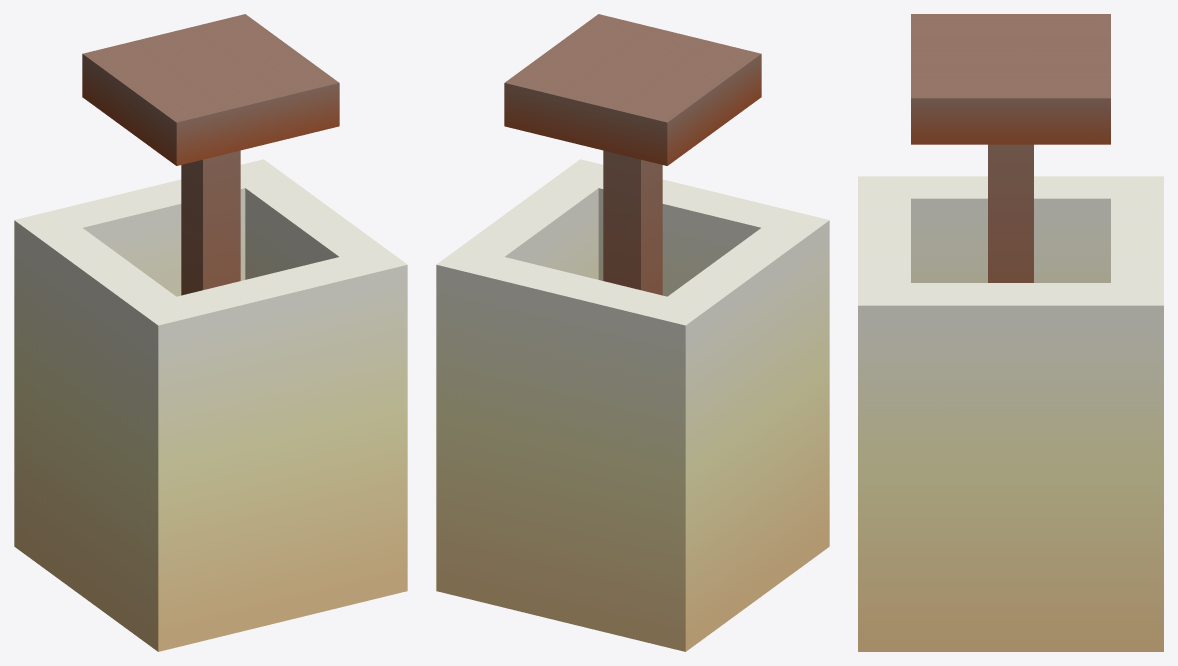
File: cielingLight.fbx
3 views of the same model, side by side, from view 1: azimuth 30°, elevation 25°; view 2: azimuth 150°, elevation 25°; view 3: azimuth 270°, elevation 25° (orthographic). The views are drawn at different scales.
Visible parts, largest first — view 1: lampSquareCeiling:lampSquareCeiling; view 2: lampSquareCeiling:lampSquareCeiling; view 3: lampSquareCeiling:lampSquareCeiling.
Part boxes in pixels (x1,y1,x2,y2): lampSquareCeiling:lampSquareCeiling: (14, 14, 407, 651); lampSquareCeiling:lampSquareCeiling: (436, 14, 829, 651); lampSquareCeiling:lampSquareCeiling: (858, 14, 1163, 651).
Bounding box in the file's own units: 27.88 × 53.44 × 27.88.
